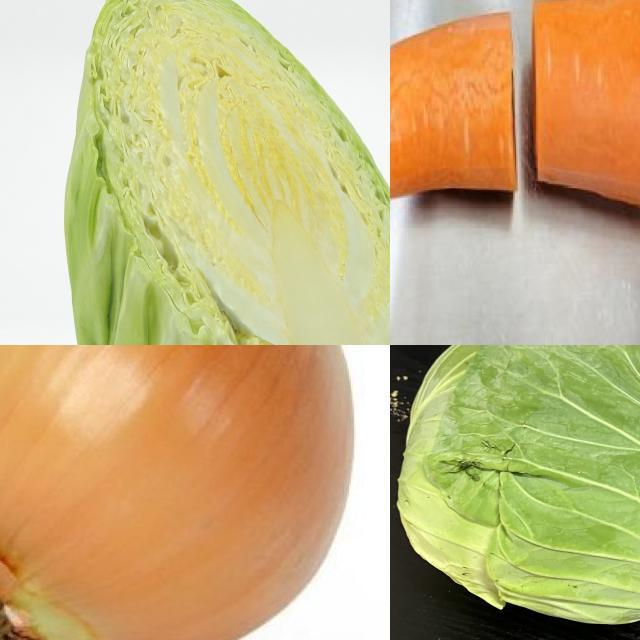cabbage: (63, 1, 391, 346), (395, 346, 640, 633)
carrot: (391, 1, 523, 214), (529, 1, 640, 220)
onion: (1, 346, 360, 640)
